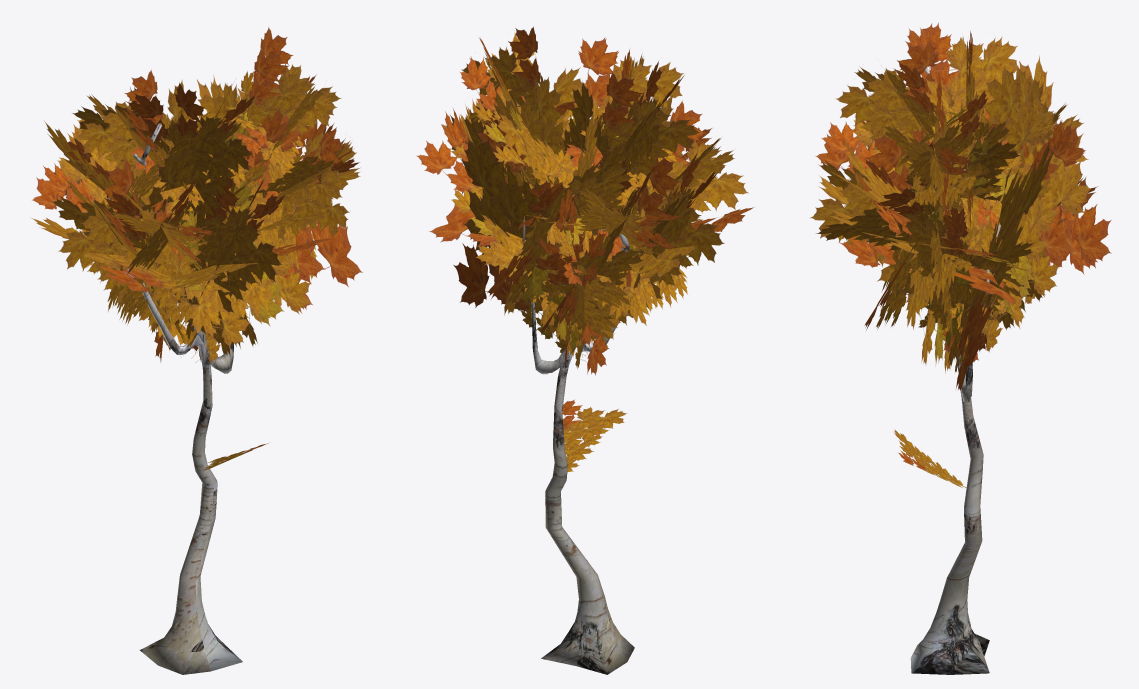
The model's file is Tree2.glb.
3 renders of one model, left to right at view 1: azimuth 30°, elevation 25°; view 2: azimuth 150°, elevation 25°; view 3: azimuth 270°, elevation 25°, orthographic. The views are drawn at different scales.
Visible parts, largest first — view 1: Cube.006; view 2: Cube.006; view 3: Cube.006.
Part boxes in pixels (box(x1,y1,x2,y2)): Cube.006: box(31, 27, 362, 674); Cube.006: box(416, 26, 753, 674); Cube.006: box(810, 22, 1111, 674).
Size of the model in its own units: 6.1 by 11.65 by 5.47.
2 materials, 2 textured.
